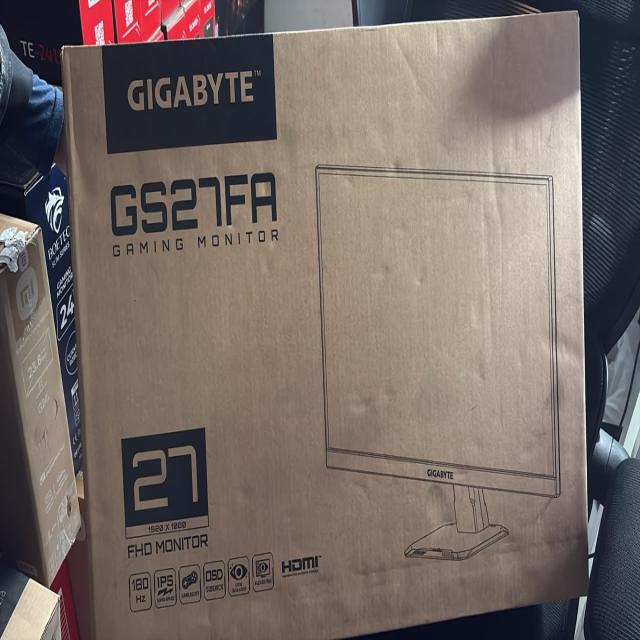caja-monitor: (63, 33, 588, 639)
